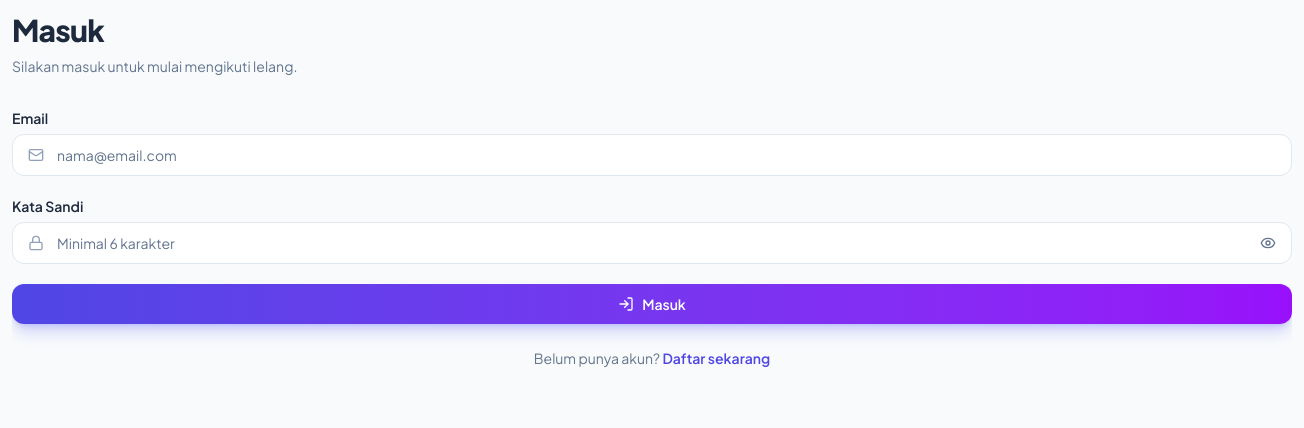
Scenario: LoginPage › menampilkan pesan validasi untuk form yang tidak valid
Type "salah" into the field with id "login-email-input".
click(652, 155); type("salah")  # box [12, 134, 1292, 176]
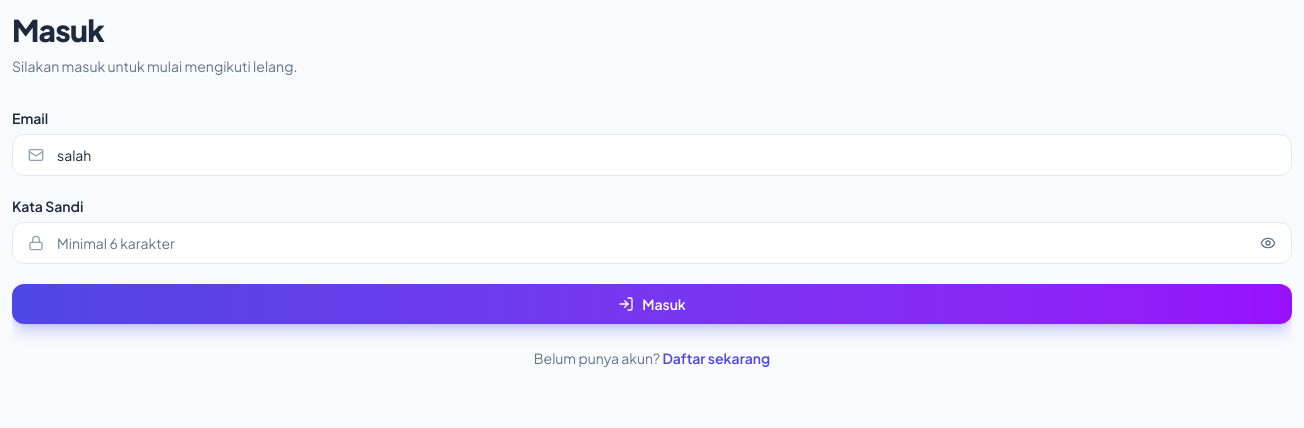
Type "123" into the password field with id "login-password-input".
click(652, 243); type("123")  # box [12, 222, 1292, 264]
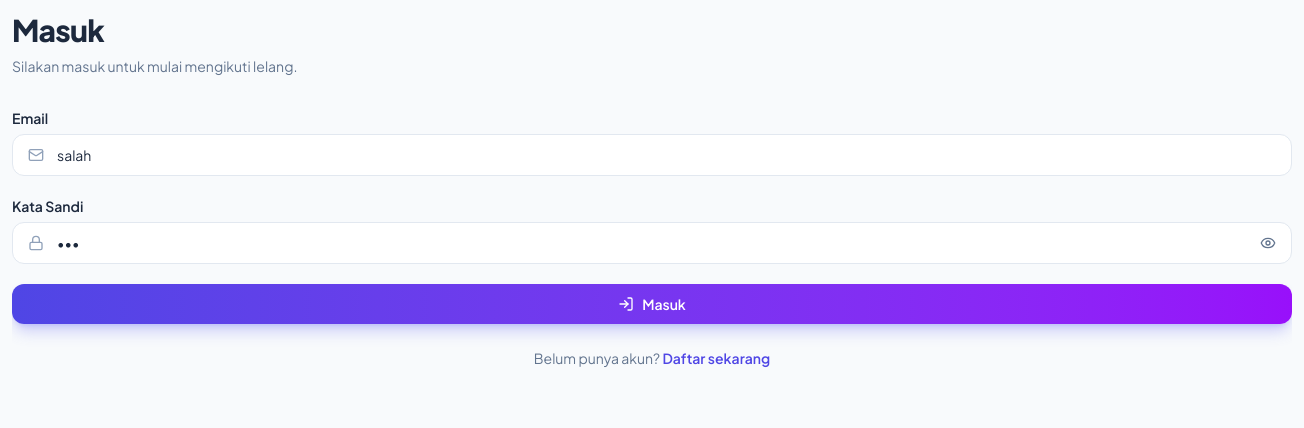
Submit the form, box [12, 108, 1292, 324]
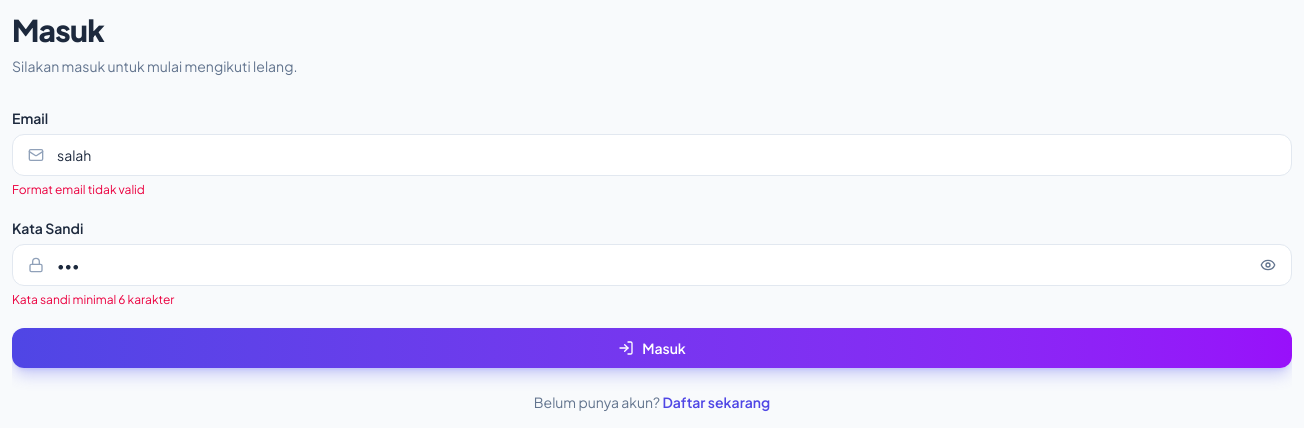
Check: the text "Format email tidak valid" is shown, box [12, 182, 145, 197]
Check: the text "Kata sandi minimal 6 karakter" is shown, box [12, 292, 174, 307]
